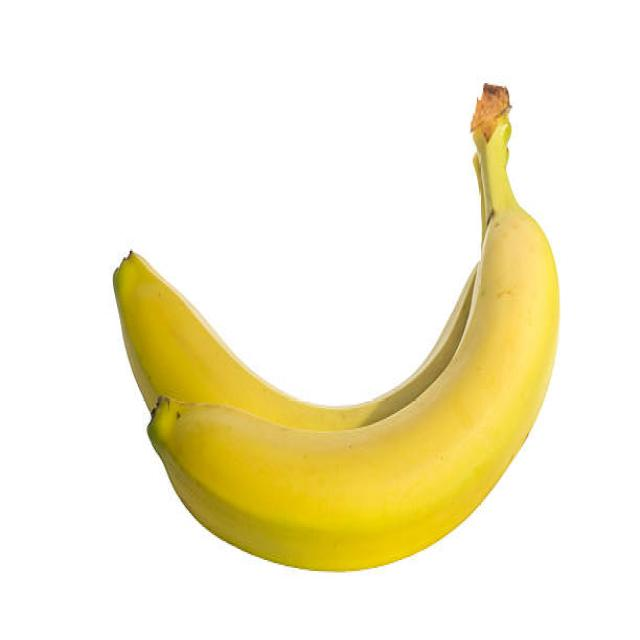banana: (146, 78, 562, 570)
